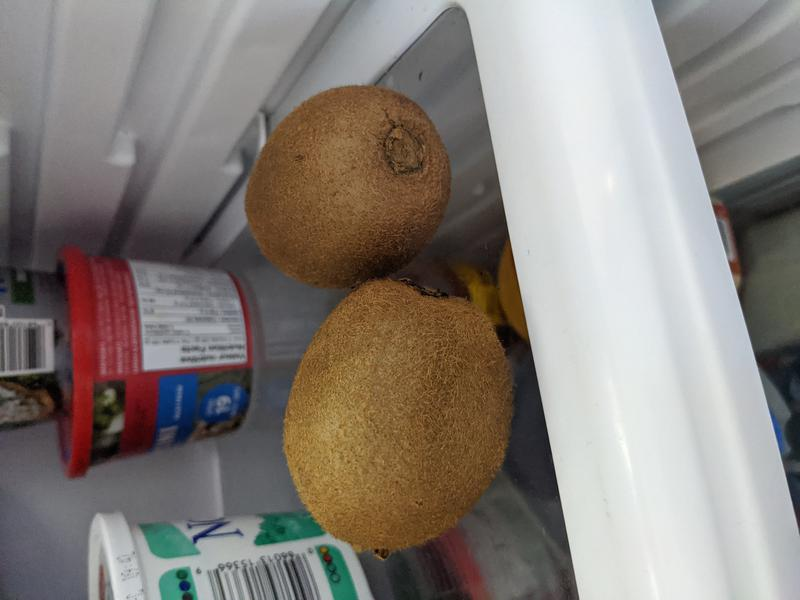kiwi: (283, 277, 516, 552), (244, 83, 453, 292)
